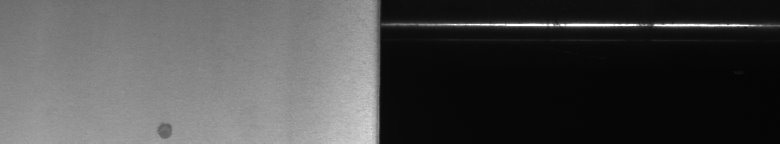fi: (152, 116, 176, 136)
